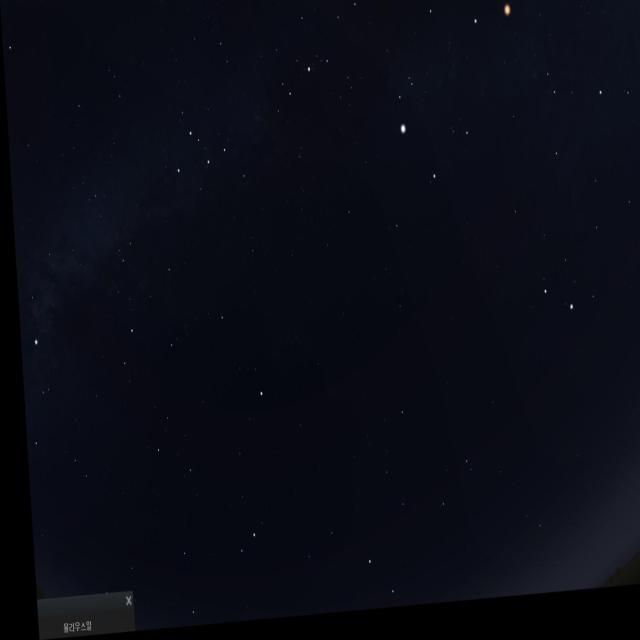cassiopeia: (165, 109, 243, 218)
